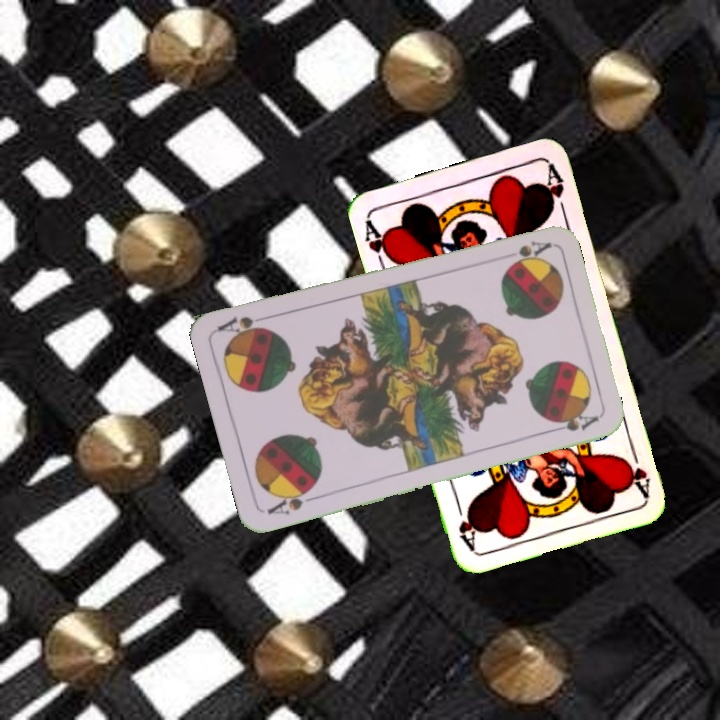HA: (361, 215, 397, 272), (619, 440, 653, 498)
SA: (262, 483, 321, 517), (511, 237, 553, 263)
